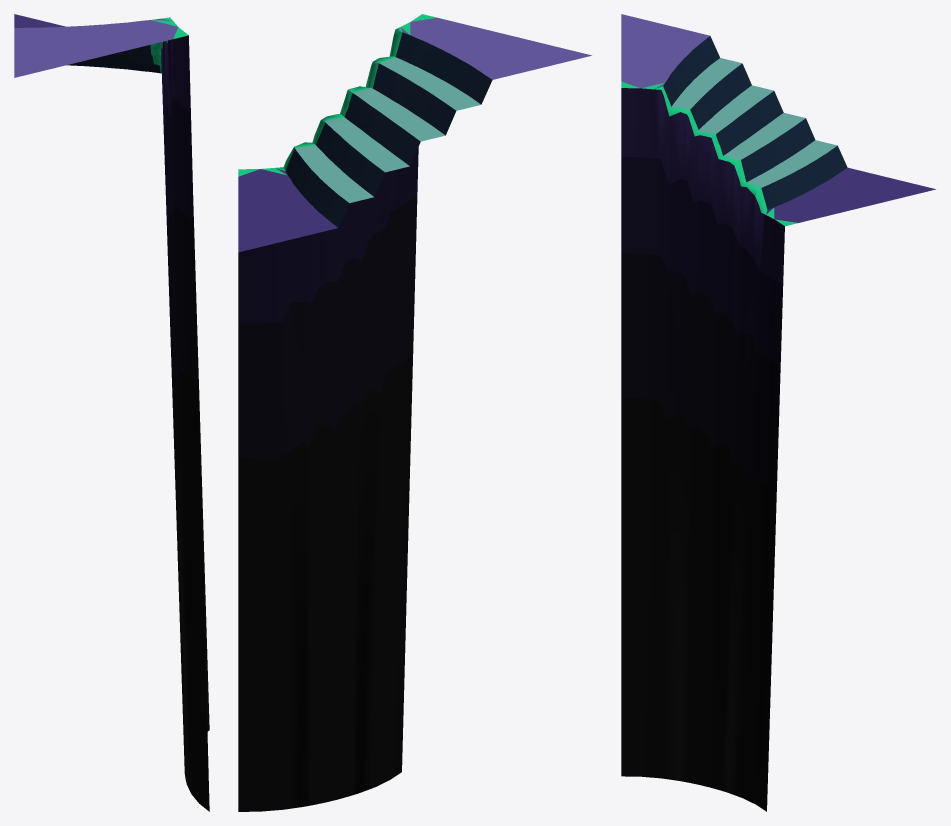
The model's file is MODULE_ALIEN_RIM_STEP_R_2_STAIRS.fbx.
3 renders of one model, left to right at view 1: azimuth 30°, elevation 25°; view 2: azimuth 150°, elevation 25°; view 3: azimuth 270°, elevation 25°, orthographic. The views are drawn at different scales.
Parts seen in each view (by area): view 1: MODULE_ALIEN_RIM_STEP_R_2_STAIRS__export; view 2: MODULE_ALIEN_RIM_STEP_R_2_STAIRS__export; view 3: MODULE_ALIEN_RIM_STEP_R_2_STAIRS__export.
Boxes of the visible parts, x1,y1,x2,y2 form: MODULE_ALIEN_RIM_STEP_R_2_STAIRS__export: (14, 14, 209, 811); MODULE_ALIEN_RIM_STEP_R_2_STAIRS__export: (238, 14, 591, 811); MODULE_ALIEN_RIM_STEP_R_2_STAIRS__export: (621, 14, 935, 811).
Bounding box in the file's own units: 76.91 × 206 × 86.6.
